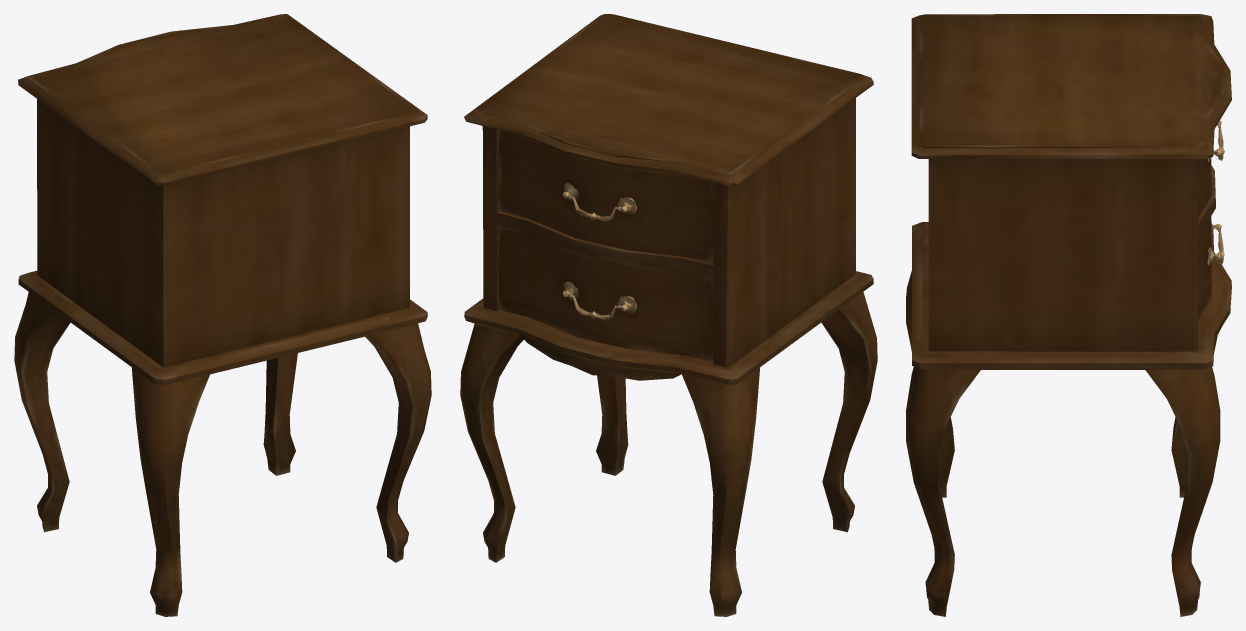
The model's file is chest-bedside.lod1.glb.
3 renders of one model, left to right at view 1: azimuth 30°, elevation 25°; view 2: azimuth 150°, elevation 25°; view 3: azimuth 270°, elevation 25°, orthographic. The views are drawn at different scales.
Parts seen in each view (by area): view 1: chest-bedside; view 2: chest-bedside; view 3: chest-bedside.
Boxes of the visible parts, x1,y1,x2,y2 form: chest-bedside: (14, 14, 431, 616); chest-bedside: (460, 14, 877, 616); chest-bedside: (906, 14, 1231, 616).
Bounding box in the file's own units: 0.4434 × 0.6709 × 0.4184.
Materials: 1 (1 with a texture image).
